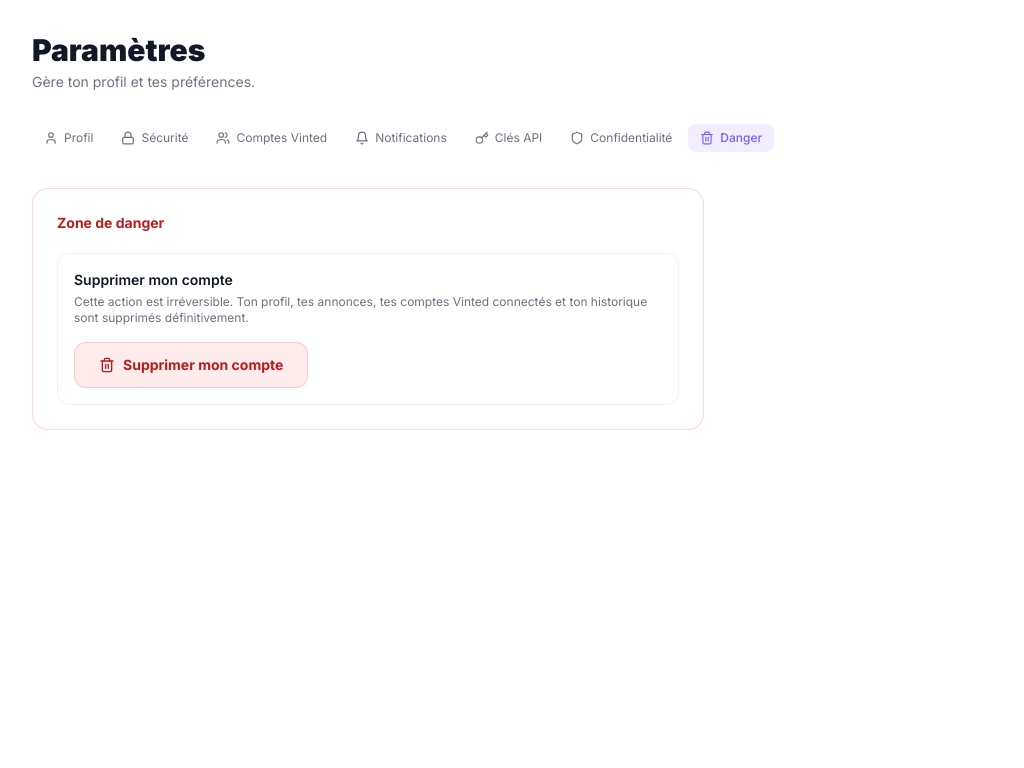
Test: SettingsPage -- suppression de compte (onglet Danger) › "Annuler" ferme la modale sans jamais appeler deleteAccount()
Click the button "Supprimer mon compte": (191, 365) [74,342,308,388]
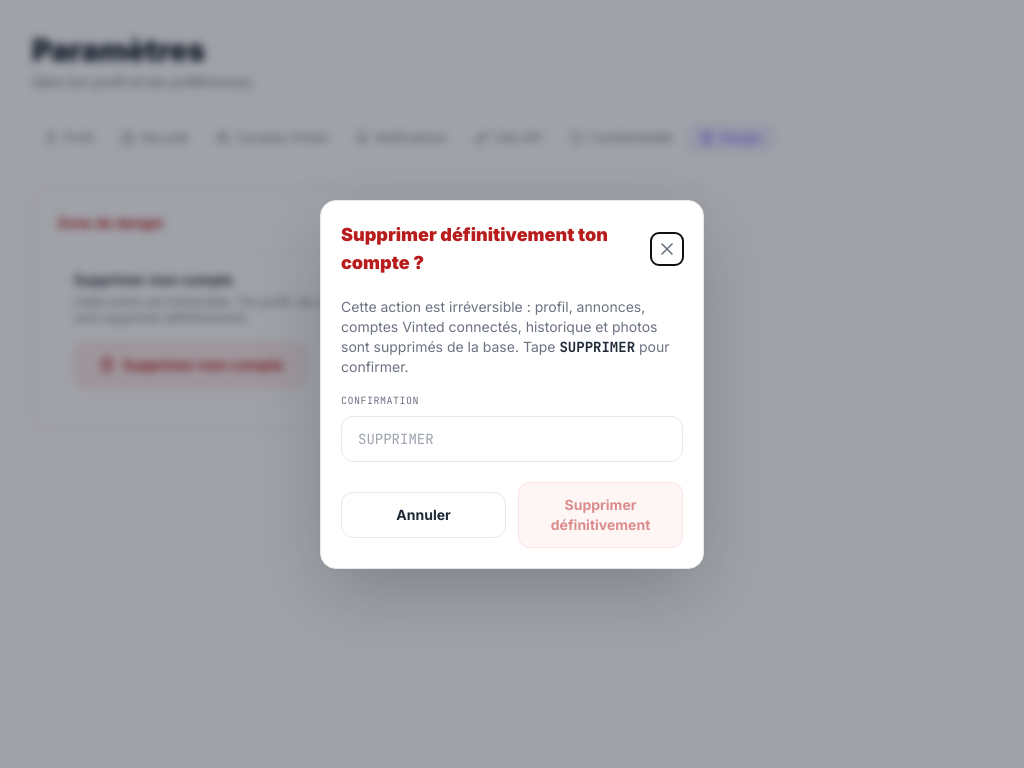
Click the button "Annuler": (424, 514) [341,492,506,538]
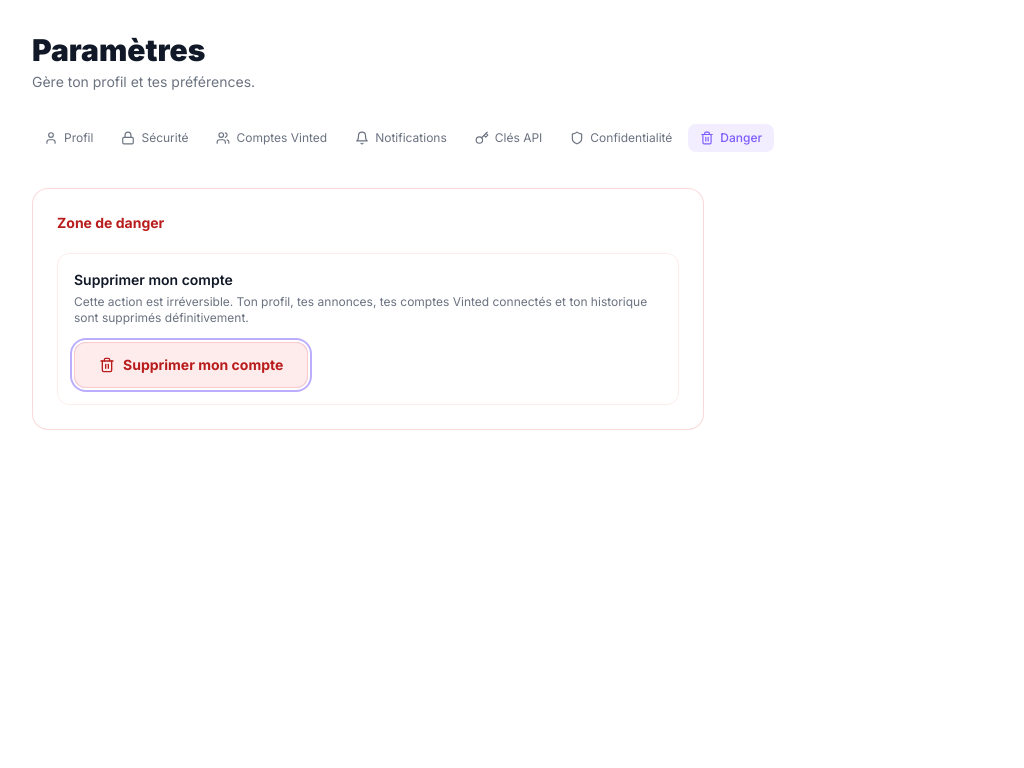
Expected: the label labelled "Confirmation" is gone
